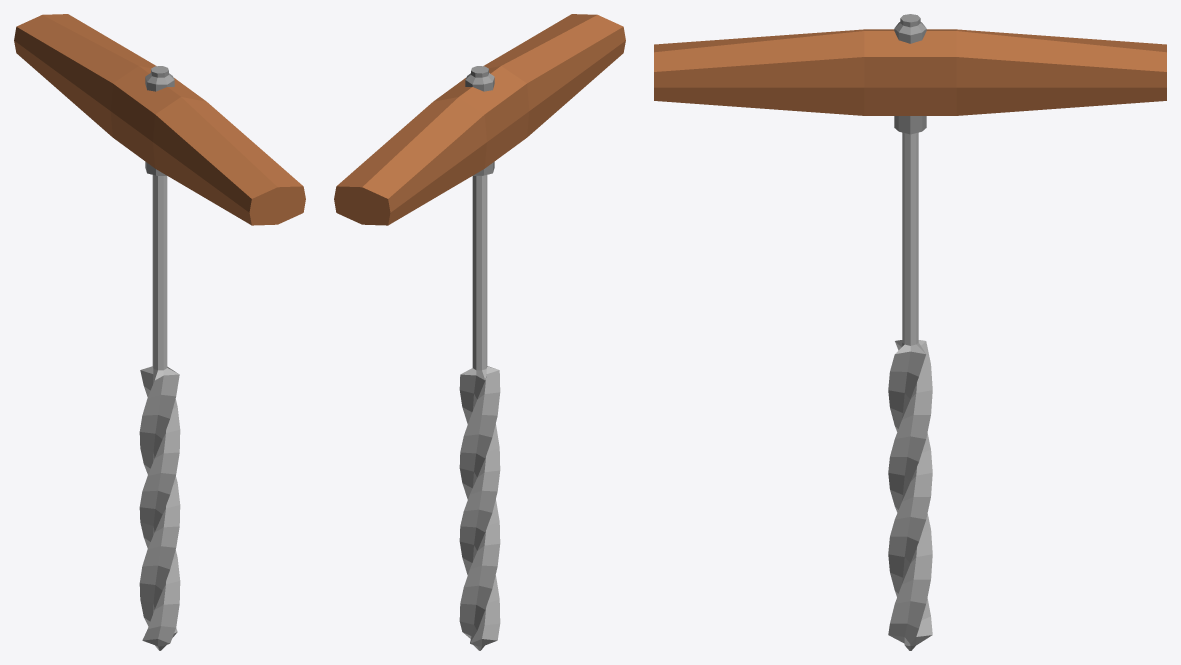
Rendered from drill01.obj.
The picture shows the model from 3 angles, left to right: view 1: azimuth 30°, elevation 25°; view 2: azimuth 150°, elevation 25°; view 3: azimuth 270°, elevation 25°; orthographic projection. The views are drawn at different scales.
Visible parts, largest first — view 1: Cylinder.001_Cylinder.011; view 2: Cylinder.001_Cylinder.011; view 3: Cylinder.001_Cylinder.011.
Boxes of the visible parts, bbox=[...] form: Cylinder.001_Cylinder.011: bbox=[14, 14, 305, 650]; Cylinder.001_Cylinder.011: bbox=[334, 14, 625, 650]; Cylinder.001_Cylinder.011: bbox=[654, 14, 1166, 650].
Size of the model in its own units: 0.0156 by 0.1537 by 0.113.
Materials: 1 (1 with a texture image).
